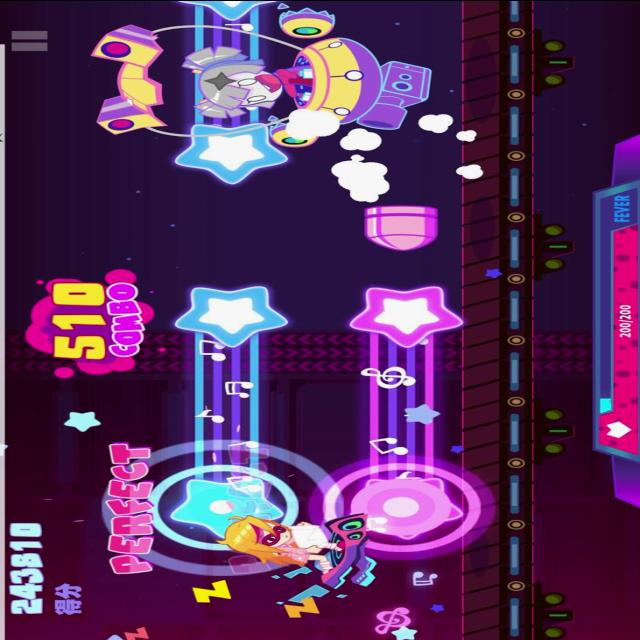hold: (170, 285, 288, 541), (348, 282, 461, 542), (170, 0, 292, 182)
jian: (358, 202, 442, 251)
qiangboss: (92, 3, 438, 143)
